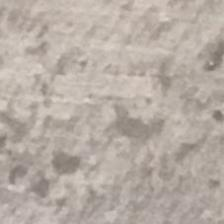Non_Crack: (28, 37, 212, 201)
